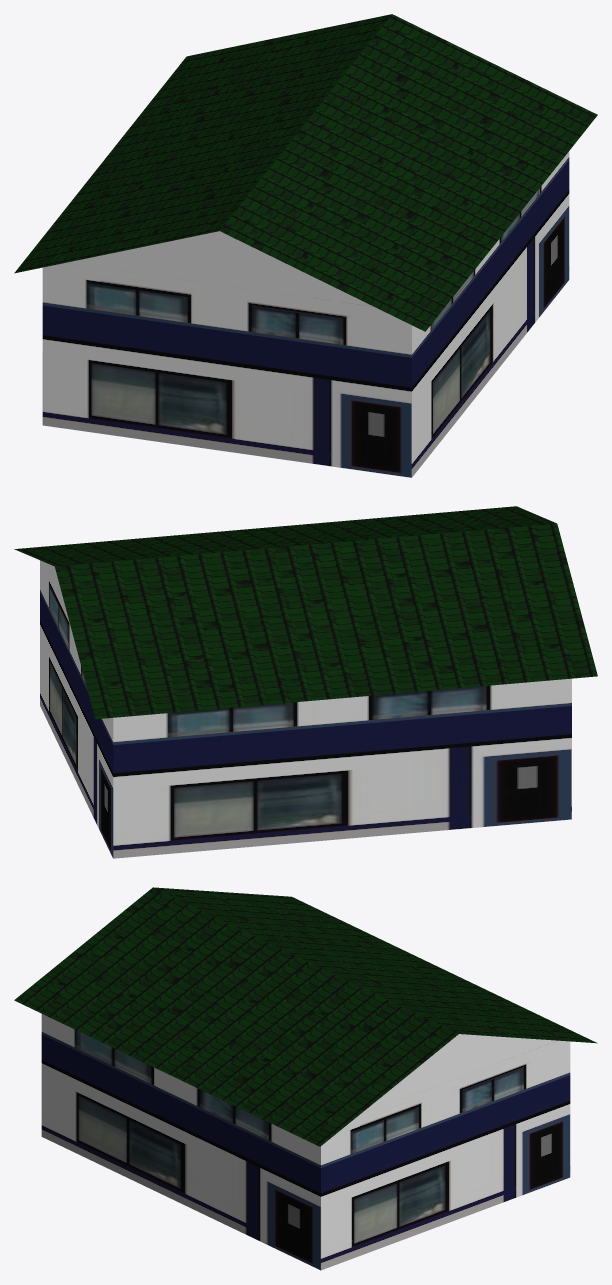
3 views of the same model, one above another, from view 1: azimuth 30°, elevation 25°; view 2: azimuth 150°, elevation 25°; view 3: azimuth 270°, elevation 25° (orthographic). The views are drawn at different scales.
Parts seen in each view (by area): view 1: CityEngineMaterial_13_m, CityEngineMaterial_2_m, CityEngineMaterial_3_m; view 2: CityEngineMaterial_13_m, CityEngineMaterial_2_m; view 3: CityEngineMaterial_13_m, CityEngineMaterial_2_m, CityEngineMaterial_3_m.
Part boxes in pixels (left/top/right/bottom): CityEngineMaterial_13_m: left=14, top=14, right=597, bottom=331; CityEngineMaterial_2_m: left=42, top=151, right=569, bottom=477; CityEngineMaterial_3_m: left=66, top=231, right=373, bottom=306; CityEngineMaterial_13_m: left=14, top=506, right=597, bottom=719; CityEngineMaterial_2_m: left=40, top=560, right=571, bottom=858; CityEngineMaterial_13_m: left=14, top=887, right=597, bottom=1146; CityEngineMaterial_2_m: left=41, top=1014, right=570, bottom=1270; CityEngineMaterial_3_m: left=361, top=1034, right=556, bottom=1113.
Bounding box in the file's own units: 29.3 × 10.73 × 28.9.
